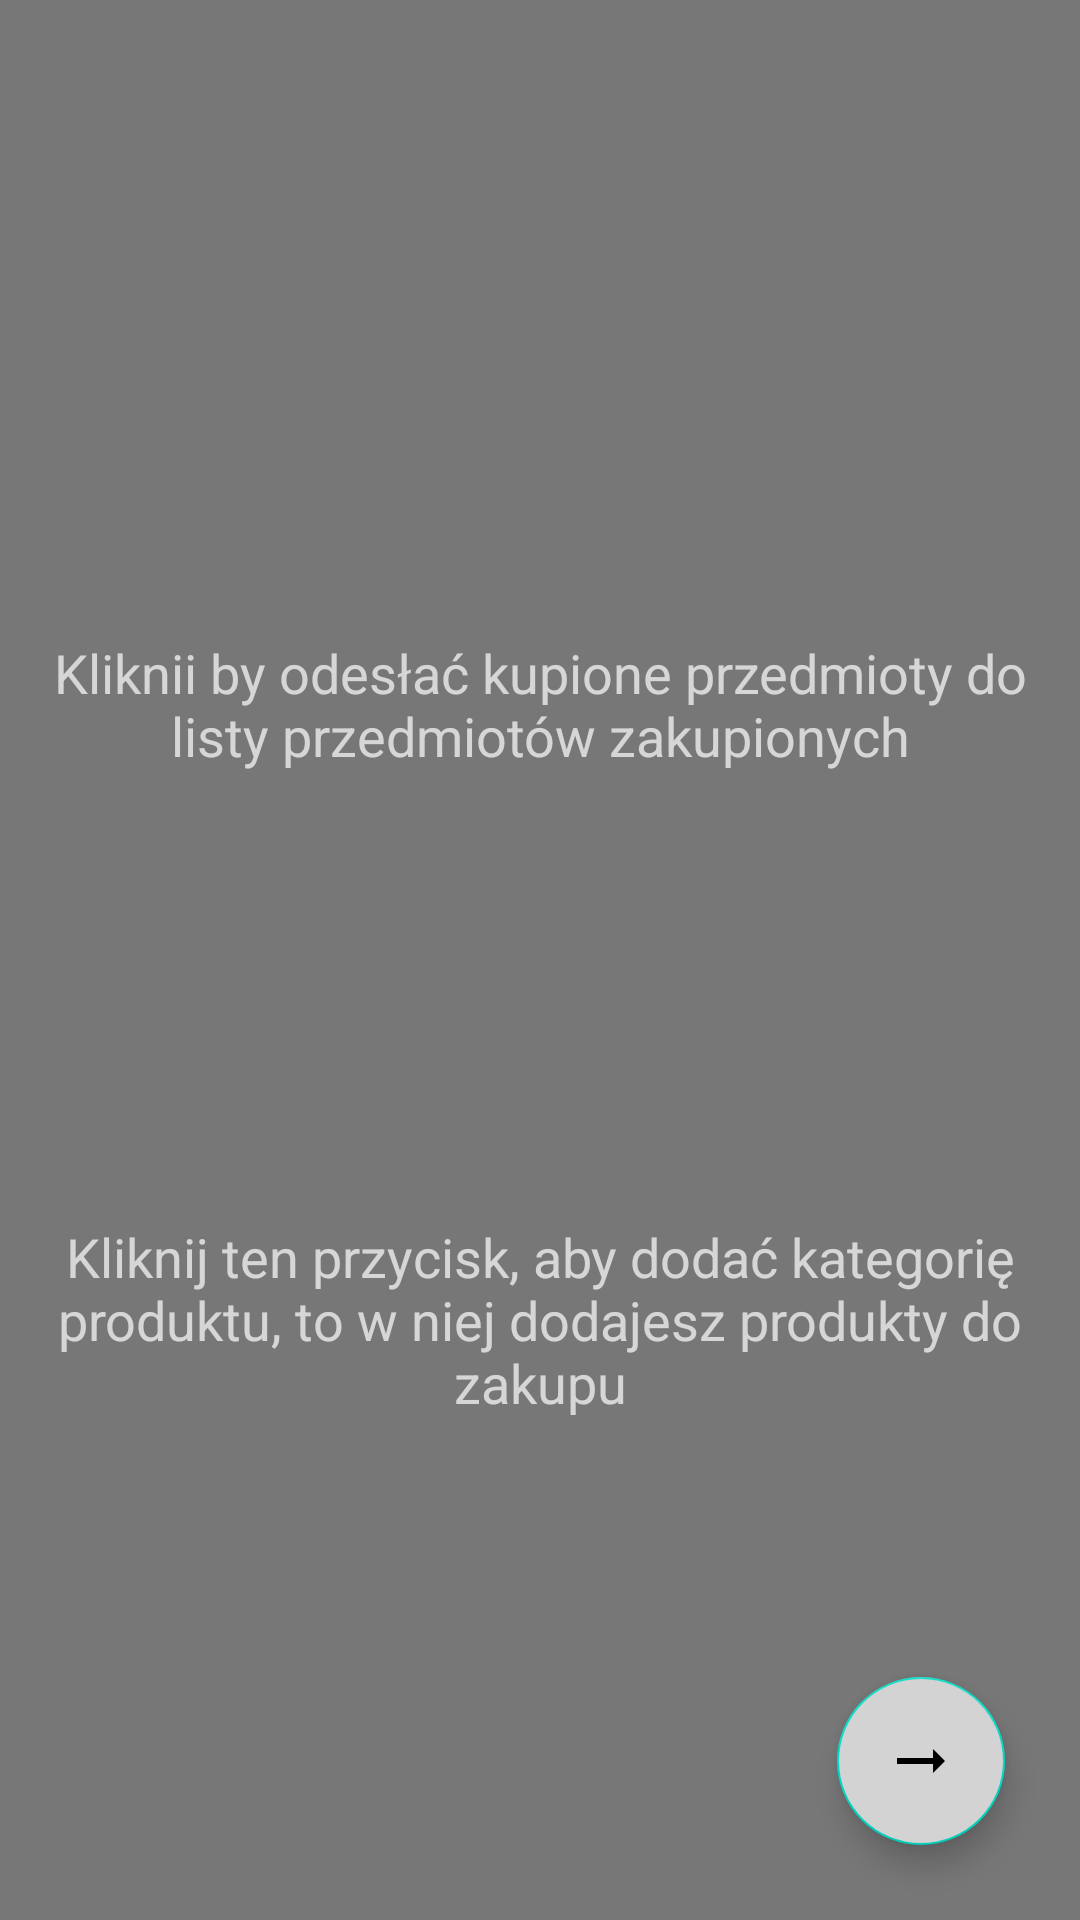

Named icons in this screenshot (1080px x 1920px) and their centers, (x=x, y=y):
arrow right: (x=921, y=1761)
